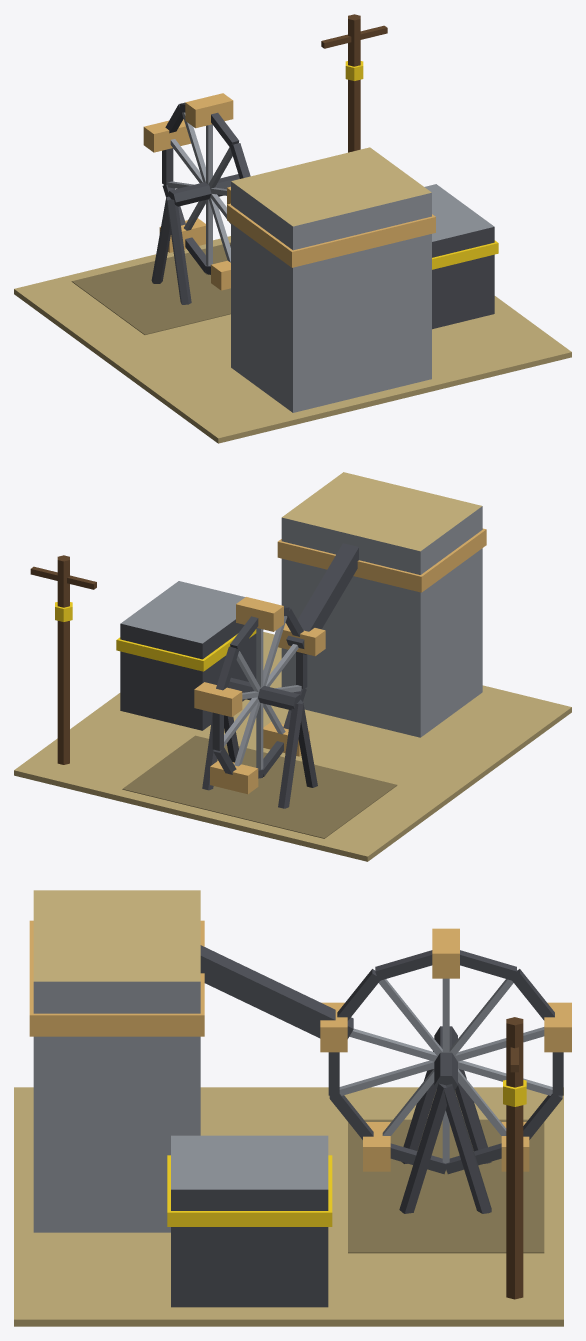
Rendered from sand_dredge.glb.
3 renders of one model, top to bottom at view 1: azimuth 30°, elevation 25°; view 2: azimuth 150°, elevation 25°; view 3: azimuth 270°, elevation 25°, orthographic. The views are drawn at different scales.
Visible parts, largest first — view 1: sand_dredge; view 2: sand_dredge; view 3: sand_dredge.
Part boxes in pixels (<box>): sand_dredge: <box>14,14,571,443</box>; sand_dredge: <box>14,472,571,861</box>; sand_dredge: <box>14,890,571,1326</box>.
Size of the model in its own units: 2.8 by 1.6 by 2.84.
